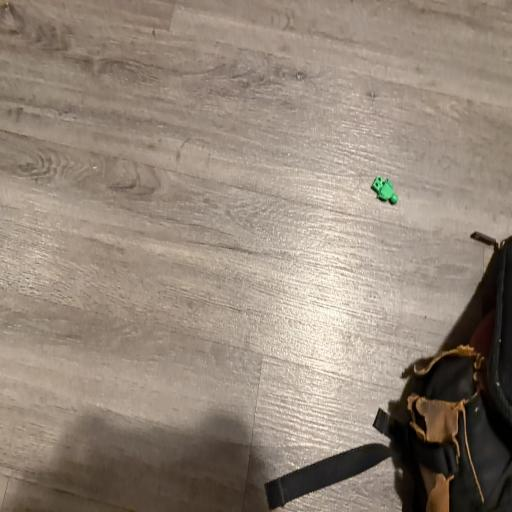Minifig: (371, 176, 398, 204)
